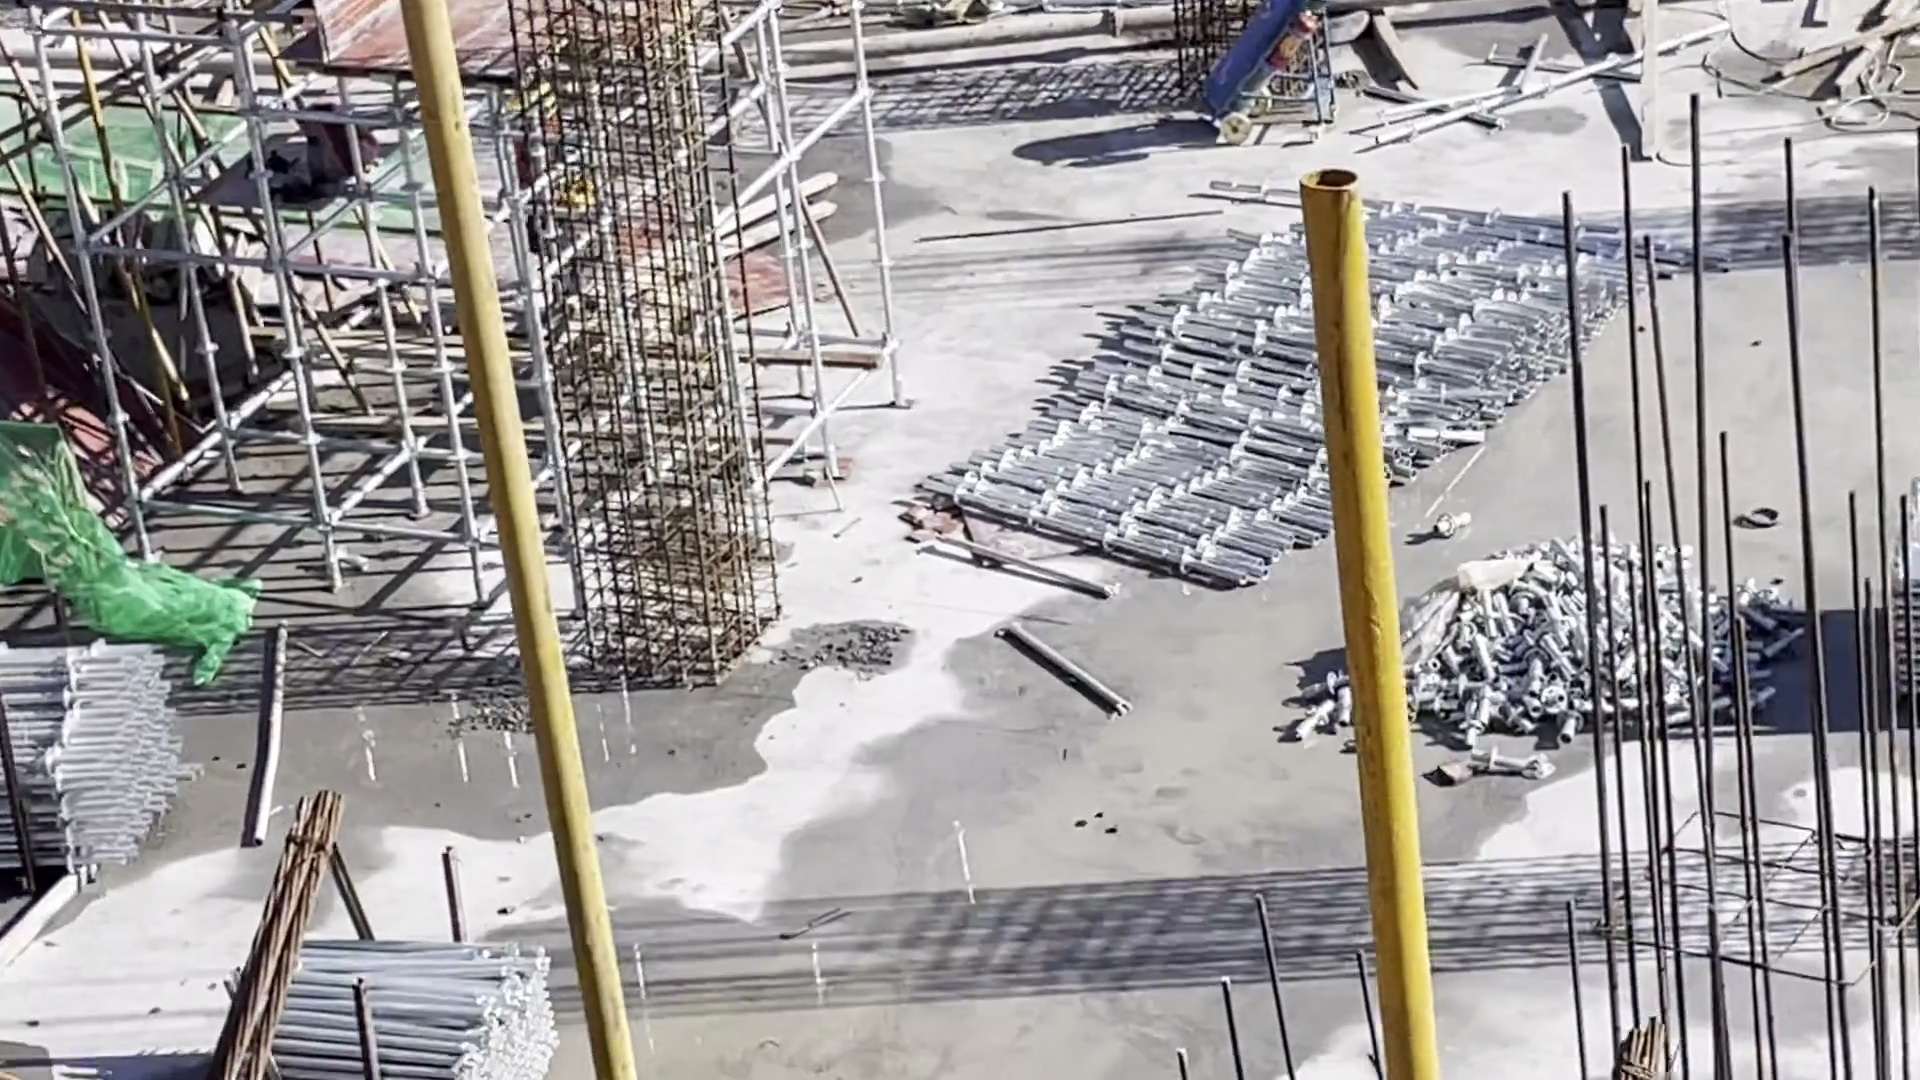scaffold: (922, 200, 1695, 593), (276, 930, 556, 1075), (3, 640, 178, 872)
